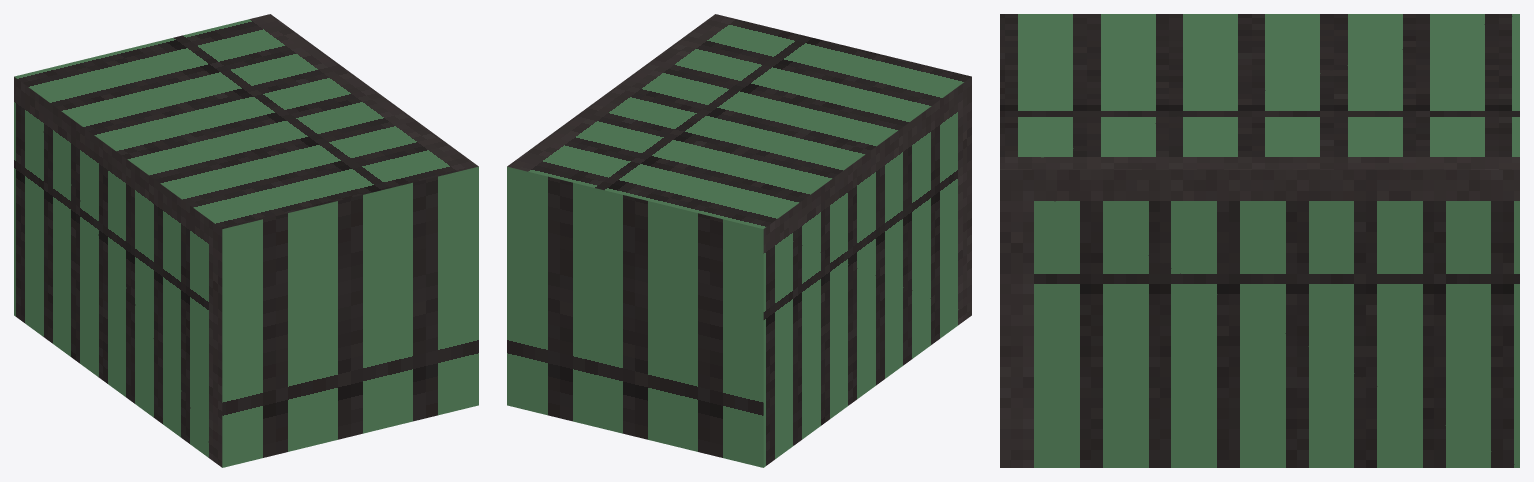
File: truck_grey_cargo.glb
The picture shows the model from 3 angles, left to right: view 1: azimuth 30°, elevation 25°; view 2: azimuth 150°, elevation 25°; view 3: azimuth 270°, elevation 25°; orthographic projection. The views are drawn at different scales.
Parts seen in each view (by area): view 1: truck-grey-cargo; view 2: truck-grey-cargo; view 3: truck-grey-cargo.
Boxes of the visible parts, x1,y1,x2,y2 form: truck-grey-cargo: (14, 14, 478, 467); truck-grey-cargo: (507, 14, 971, 467); truck-grey-cargo: (1000, 14, 1519, 467).
Size of the model in its own units: 0.83 by 0.7384 by 1.17.
1 material, 1 textured.
